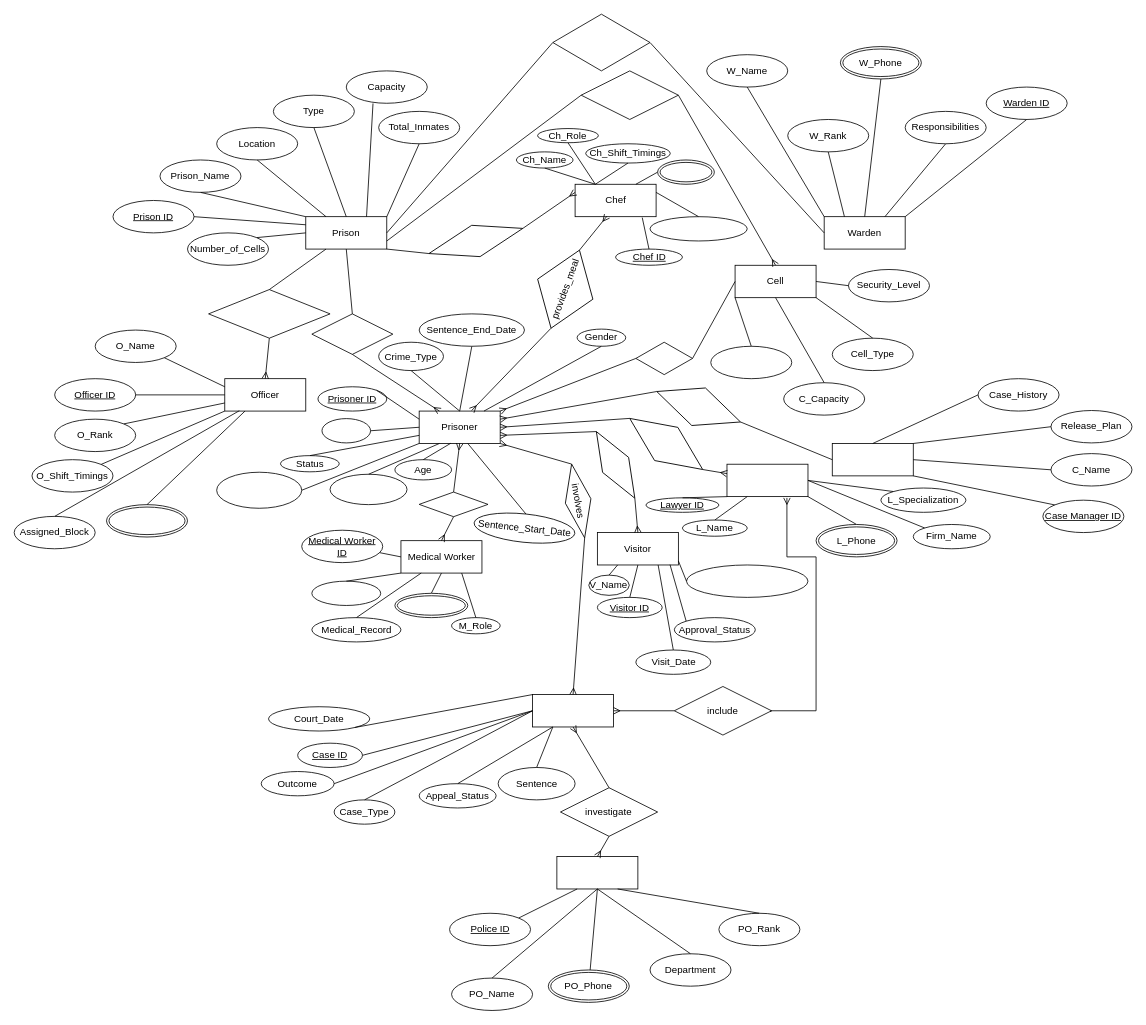
Some shapes in this 1146 by 1025 pixel diagram are drawn without their labels. Each missing label, with the centre of its shape:
"assign" belongs at (664,358).
"Assigned Cell ID" belongs at (259,489).
"Case" belongs at (573,710).
"Case Manager" belongs at (872,459).
"Cell ID" belongs at (751,362).
"Ch_Phone" belongs at (685,171).
"Ch_Specialization" belongs at (698,228).
"contain" belongs at (352,333).
"handled" belongs at (698,406).
"has" belongs at (269,313).
"have" belongs at (666,443).
"hold" belongs at (629,94).
"keeps" belongs at (475,240).
"Lawyer" belongs at (767,480).
"M_Name" belongs at (346,592).
"M_Phone" belongs at (431,605).
"manage" belongs at (601,42).
"Medical_History" belongs at (368,489).
"O_Phone" belongs at (147,520).
"P_Name" belongs at (346,430).
"Police" belongs at (597,872).
"Relationship_to_Prisoner" belongs at (747,580).
"treat" belongs at (453,504).
"visit" belongs at (615,464).
